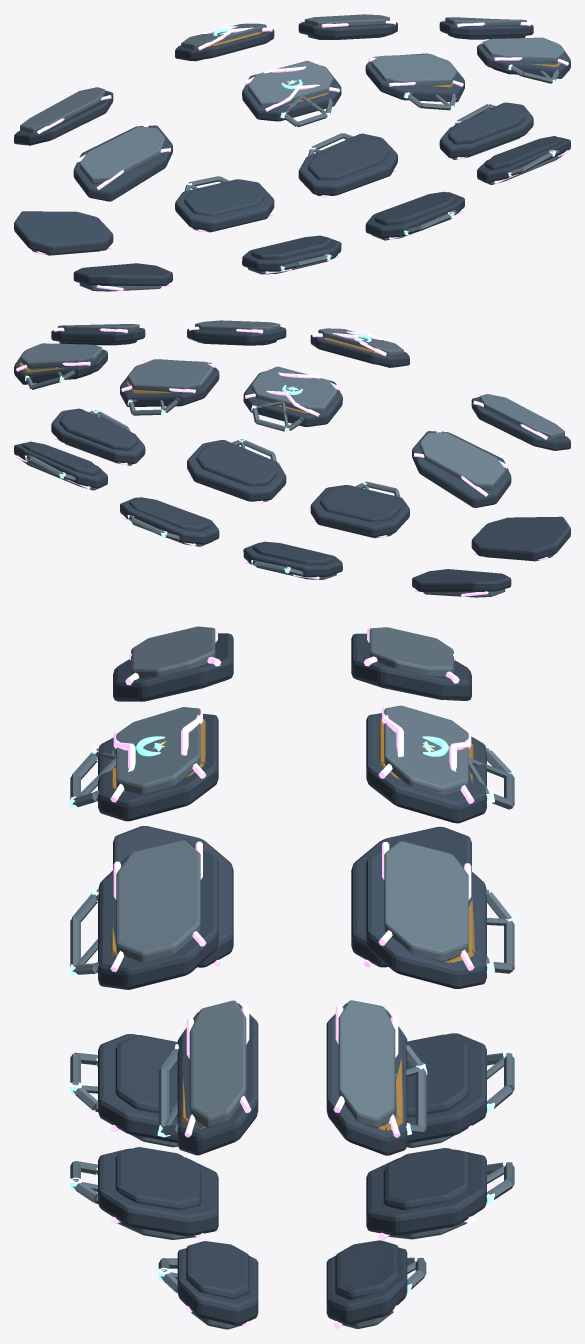
The model's file is plating.glb.
3 renders of one model, top to bottom at view 1: azimuth 30°, elevation 25°; view 2: azimuth 150°, elevation 25°; view 3: azimuth 270°, elevation 25°, orthographic. The views are drawn at different scales.
Visible parts, largest first — view 1: p_heavy Fitting gunmetal, p_heavy Brushed fitting edges, p_aegis Fitting gunmetal, p_light Brushed fitting edges, p_heavy p_heavy emitter, p_reactive Fitting gunmetal, p_light p_light emitter; view 2: p_heavy Fitting gunmetal, p_heavy Brushed fitting edges, p_aegis Fitting gunmetal, p_light Brushed fitting edges, p_heavy p_heavy emitter, p_reactive Fitting gunmetal, p_aegis Champagne gold edging, p_light p_light emitter; view 3: p_heavy Fitting gunmetal, p_heavy Brushed fitting edges, p_aegis Fitting gunmetal, p_light Brushed fitting edges, p_heavy p_heavy emitter, p_reactive Fitting gunmetal, p_aegis Champagne gold edging, p_light p_light emitter.
Boxes of the visible parts, box(x1,y1,x2,y2) form: p_heavy Fitting gunmetal: box(14, 21, 570, 285); p_heavy Brushed fitting edges: box(20, 14, 564, 291); p_aegis Fitting gunmetal: box(184, 34, 562, 259); p_light Brushed fitting edges: box(184, 65, 559, 269); p_heavy p_heavy emitter: box(16, 18, 568, 290); p_reactive Fitting gunmetal: box(284, 36, 556, 257); p_light p_light emitter: box(185, 64, 555, 270); p_heavy Fitting gunmetal: box(14, 327, 570, 592); p_heavy Brushed fitting edges: box(20, 320, 564, 597); p_aegis Fitting gunmetal: box(22, 340, 400, 564); p_light Brushed fitting edges: box(26, 367, 400, 575); p_heavy p_heavy emitter: box(16, 324, 568, 596); p_reactive Fitting gunmetal: box(32, 342, 300, 563); p_aegis Champagne gold edging: box(19, 337, 378, 413); p_light p_light emitter: box(25, 346, 401, 573); p_heavy Fitting gunmetal: box(98, 633, 486, 1325); p_heavy Brushed fitting edges: box(116, 626, 468, 1329); p_aegis Fitting gunmetal: box(115, 1034, 469, 1299); p_light Brushed fitting edges: box(70, 748, 514, 1292); p_heavy p_heavy emitter: box(110, 627, 474, 1329); p_reactive Fitting gunmetal: box(186, 1242, 393, 1287); p_aegis Champagne gold edging: box(110, 719, 474, 1130); p_light p_light emitter: box(69, 748, 515, 1293).
Bounding box in the file's own units: 36.2 × 13.56 × 14.08.
